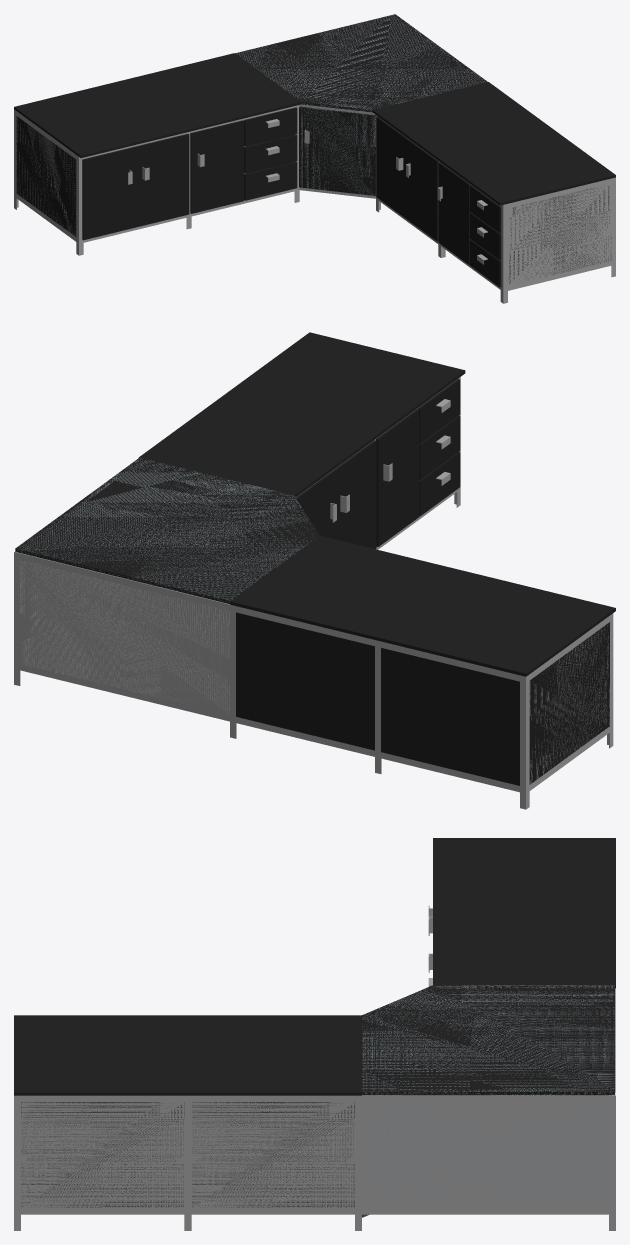
3 views of the same model, one above another, from view 1: azimuth 30°, elevation 25°; view 2: azimuth 150°, elevation 25°; view 3: azimuth 270°, elevation 25° (orthographic). The views are drawn at different scales.
Parts seen in each view (by area): view 1: Union (×4), porta (×7), SketchUp, group_0, frente_da_gaveta (×6), group_1; view 2: Union (×4), SketchUp (×2), group_1 (×3), porta (×3), frente_da_gaveta (×3), Component_3 (×2); view 3: Union (×3), SketchUp (×2), group_0 (×2), Component_4 (×2).
Boxes of the visible parts, x1,y1,x2,y2 form: Union (×4): [14, 53, 615, 303]; porta (×7): [82, 106, 470, 264]; SketchUp: [235, 14, 487, 112]; group_0: [508, 183, 611, 285]; frente_da_gaveta (×6): [244, 107, 501, 287]; group_1: [16, 116, 76, 236]; Union (×4): [138, 332, 615, 809]; SketchUp (×2): [14, 457, 319, 715]; group_1 (×3): [236, 612, 609, 785]; porta (×3): [296, 409, 419, 549]; frente_da_gaveta (×3): [418, 379, 460, 516]; Component_3 (×2): [15, 552, 229, 721]; Union (×3): [14, 838, 615, 1230]; SketchUp (×2): [362, 985, 615, 1230]; group_0 (×2): [21, 1102, 354, 1208]; Component_4 (×2): [362, 1095, 608, 1214].
Bounding box in the file's own units: 133 × 133 × 35.24.
7 materials, 2 textured.
